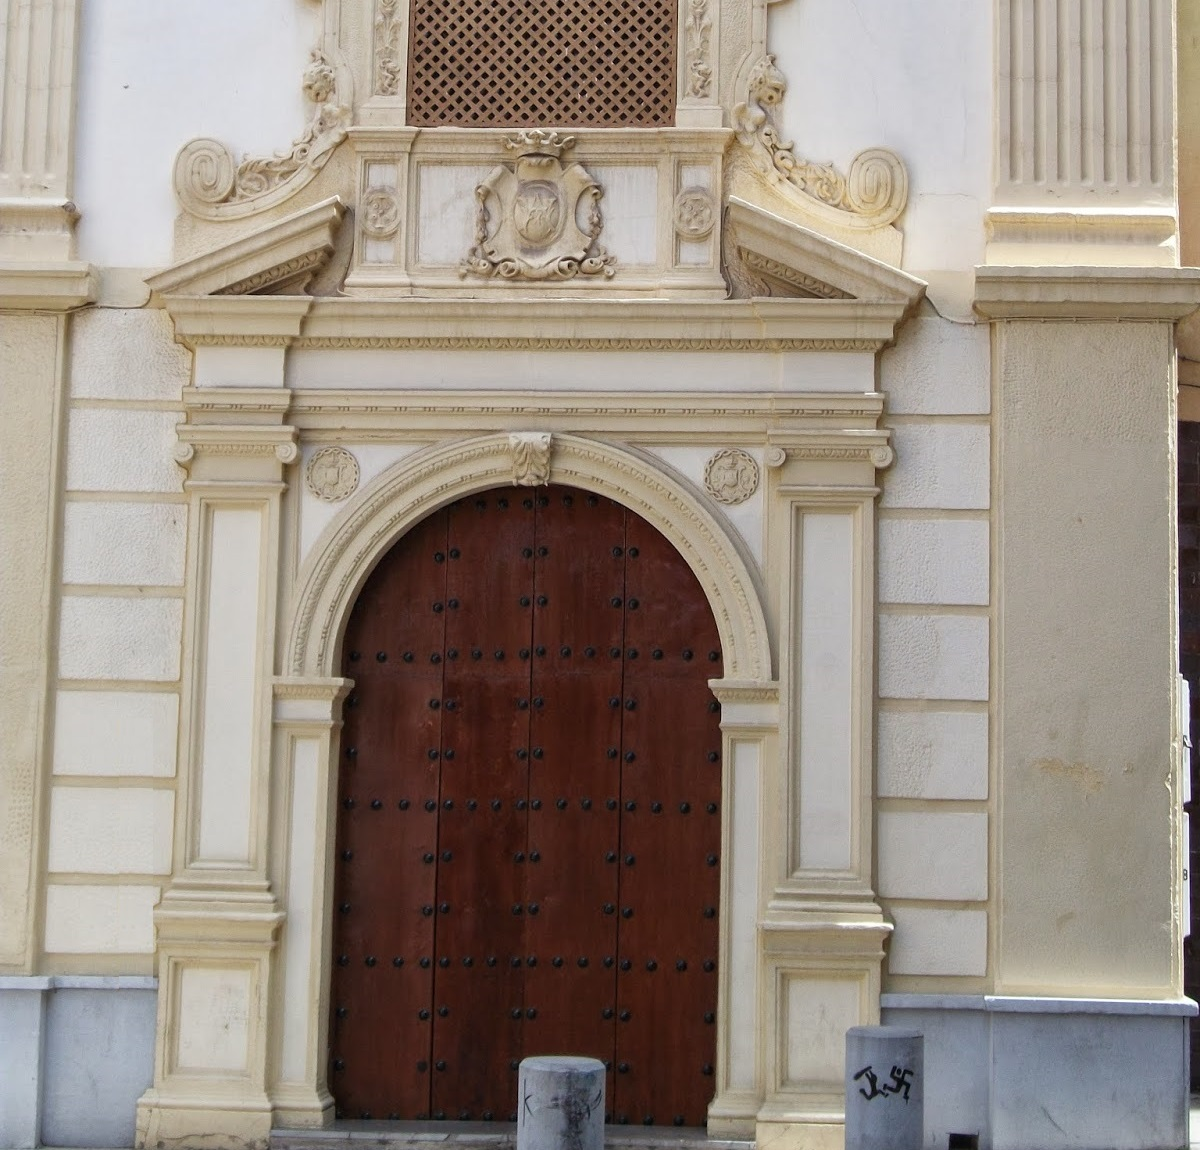arco-medio-punto: (315, 468, 738, 738)
fronton-partido: (144, 190, 937, 343)
